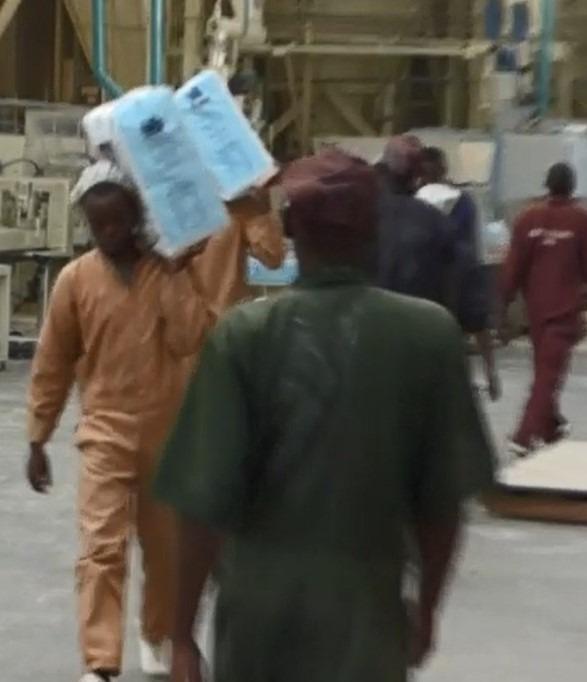wheat_flour_blue_label: (84, 86, 229, 258), (182, 68, 271, 194)
